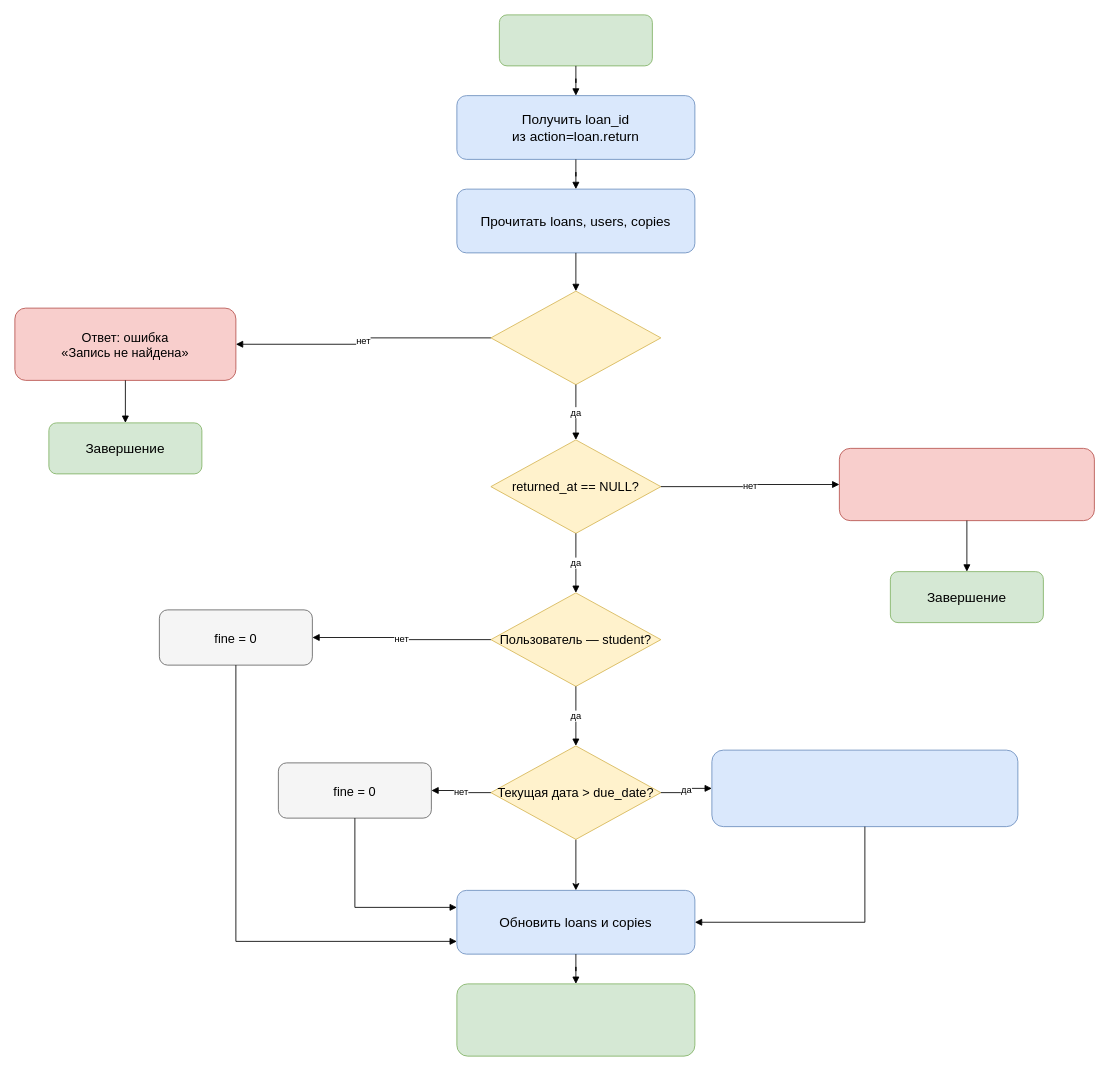
This 1109x1071 diagram has some shape labels left out. The centre of each missing label's shape, as x and y in pixels:
Запись найдена?: the point at 575,337
Начало: the point at 575,40
Ответ JSON: ok=true, message, fine: the point at 575,1019
Ответ: ошибка недопустимого состояния: the point at 966,484
Полные дни просрочки; расчёт fine по формуле LoanService: the point at 864,788
